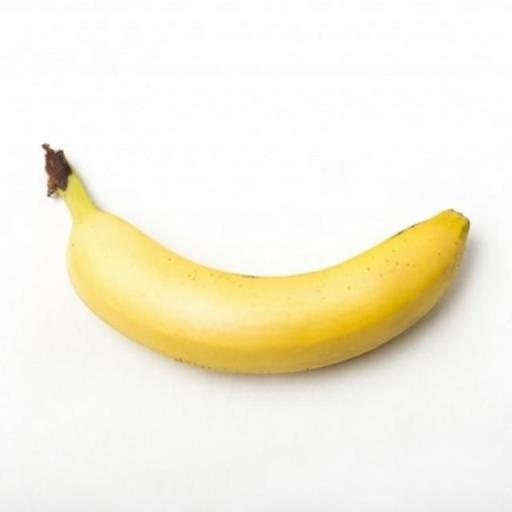fruit: (44, 145, 468, 372)
